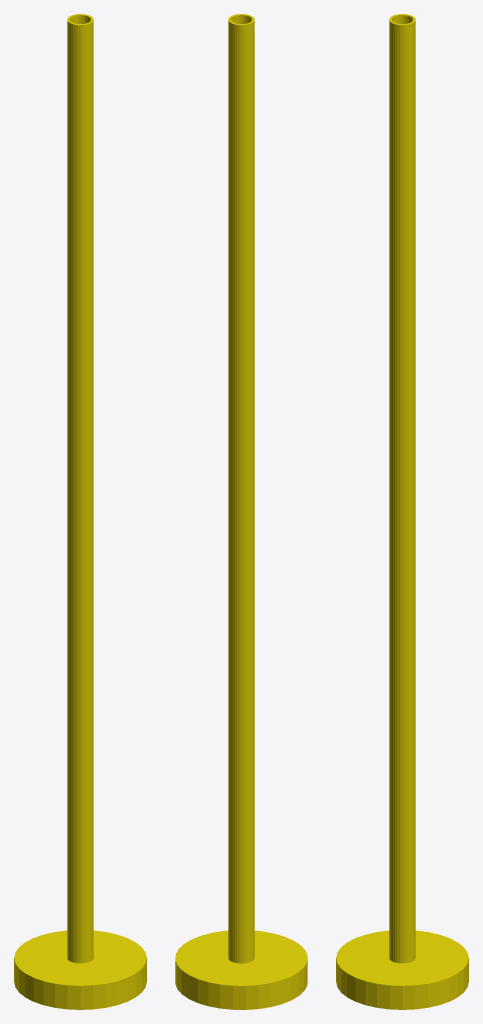
Rendered from yellow_flare.dae.
3 views of the same model, side by side, from view 1: azimuth 90°, elevation 25°; view 2: azimuth 150°, elevation 25°; view 3: azimuth 270°, elevation 25° (orthographic).
Parts seen in each view (by area): view 1: Cylinder, Cylinder.001; view 2: Cylinder, Cylinder.001; view 3: Cylinder, Cylinder.001.
Boxes of the visible parts, box(x1,y1,x2,y2) form: Cylinder: box(67, 14, 93, 963); Cylinder.001: box(14, 930, 146, 1009); Cylinder: box(228, 14, 254, 963); Cylinder.001: box(175, 930, 307, 1009); Cylinder: box(389, 14, 415, 963); Cylinder.001: box(336, 930, 468, 1009).
Bounding box in the file's own units: 0.1 × 0.1 × 0.8.
